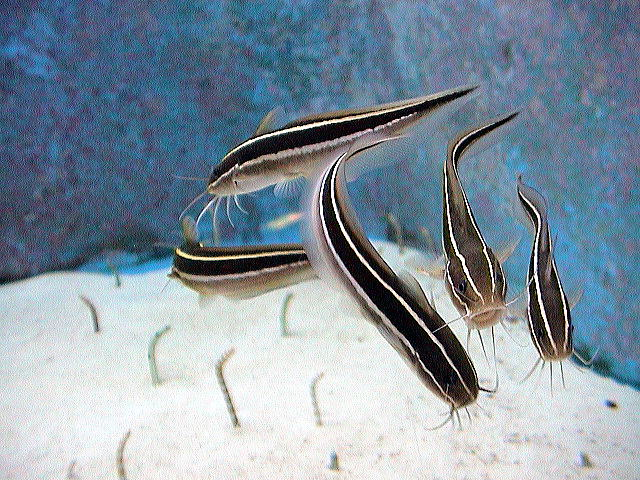gonzui: (193, 78, 470, 194), (441, 102, 526, 328), (509, 158, 593, 371)
